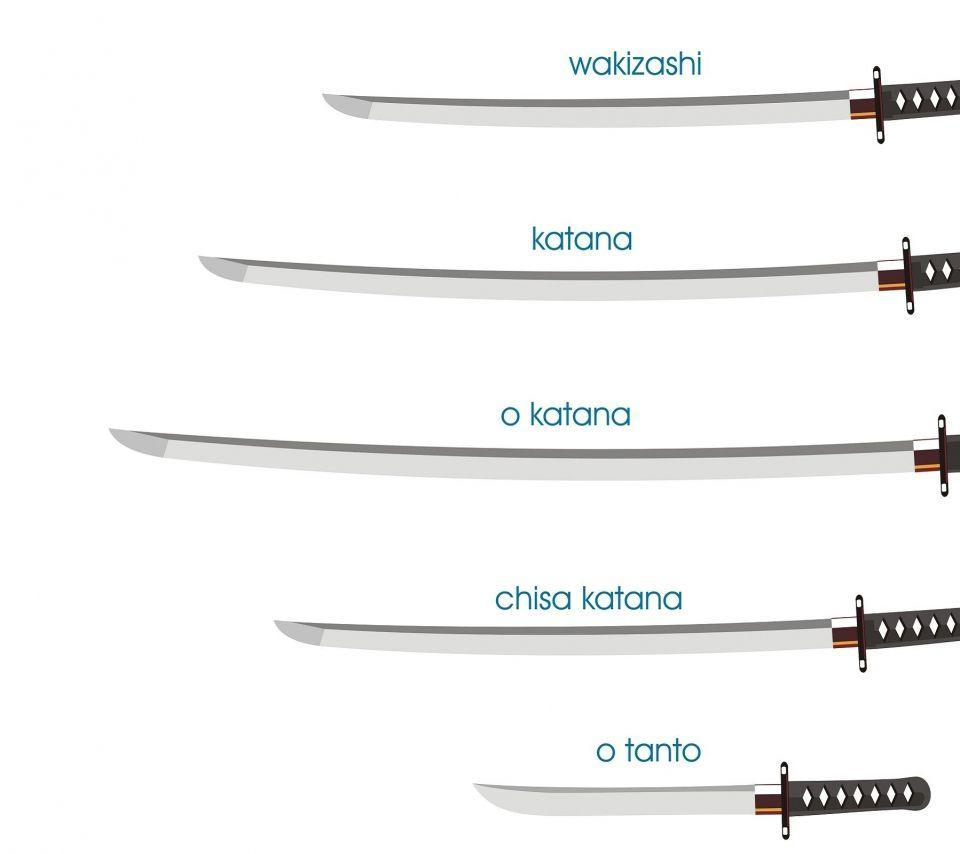espada: (111, 402, 960, 508), (206, 229, 954, 316), (276, 594, 954, 670), (331, 68, 956, 148)
